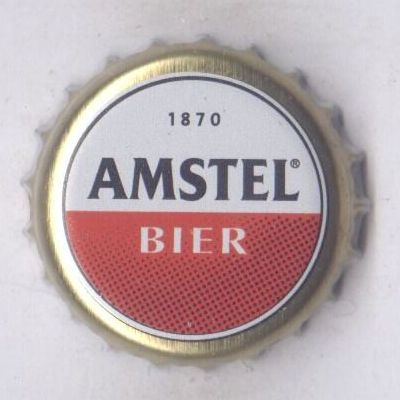amstel: (22, 36, 367, 375)
